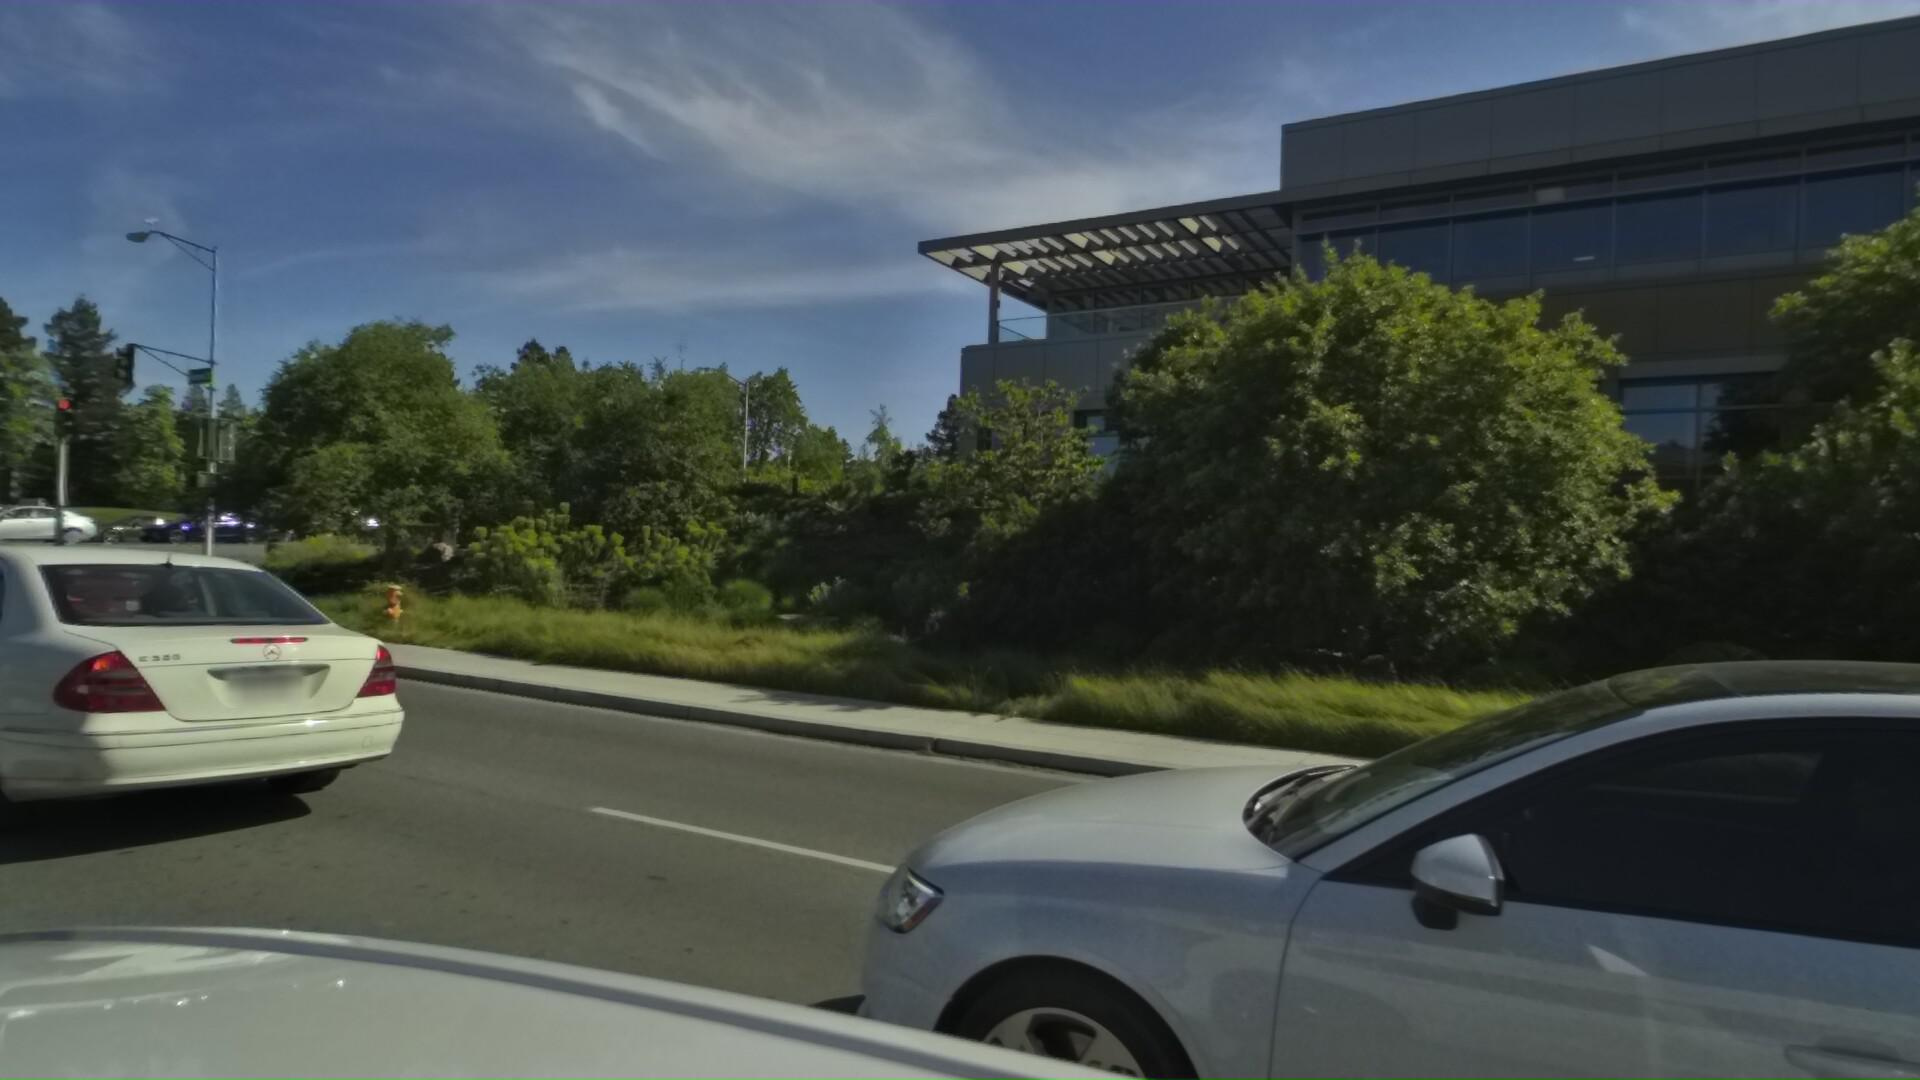car: (596, 584, 1920, 1080), (0, 535, 414, 905), (0, 542, 207, 678), (54, 512, 203, 555), (123, 510, 265, 551), (0, 502, 95, 550), (0, 501, 30, 554), (0, 498, 18, 550)
